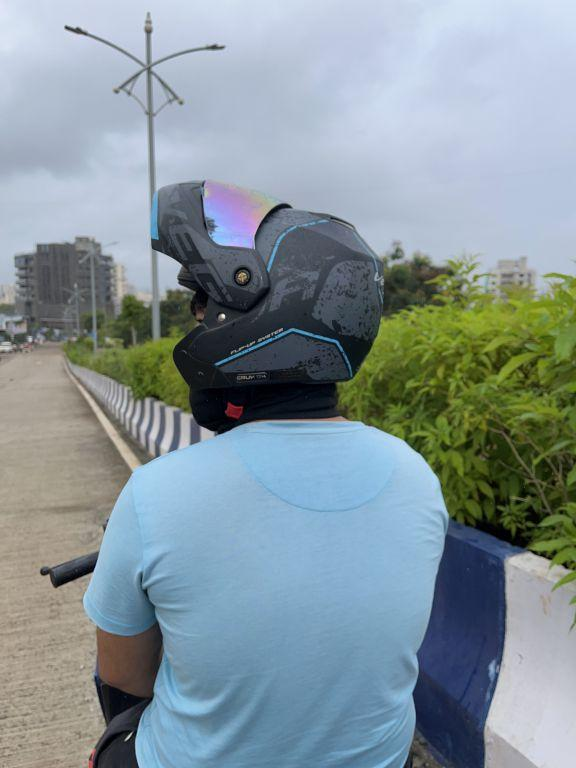helmet: (142, 162, 397, 437)
